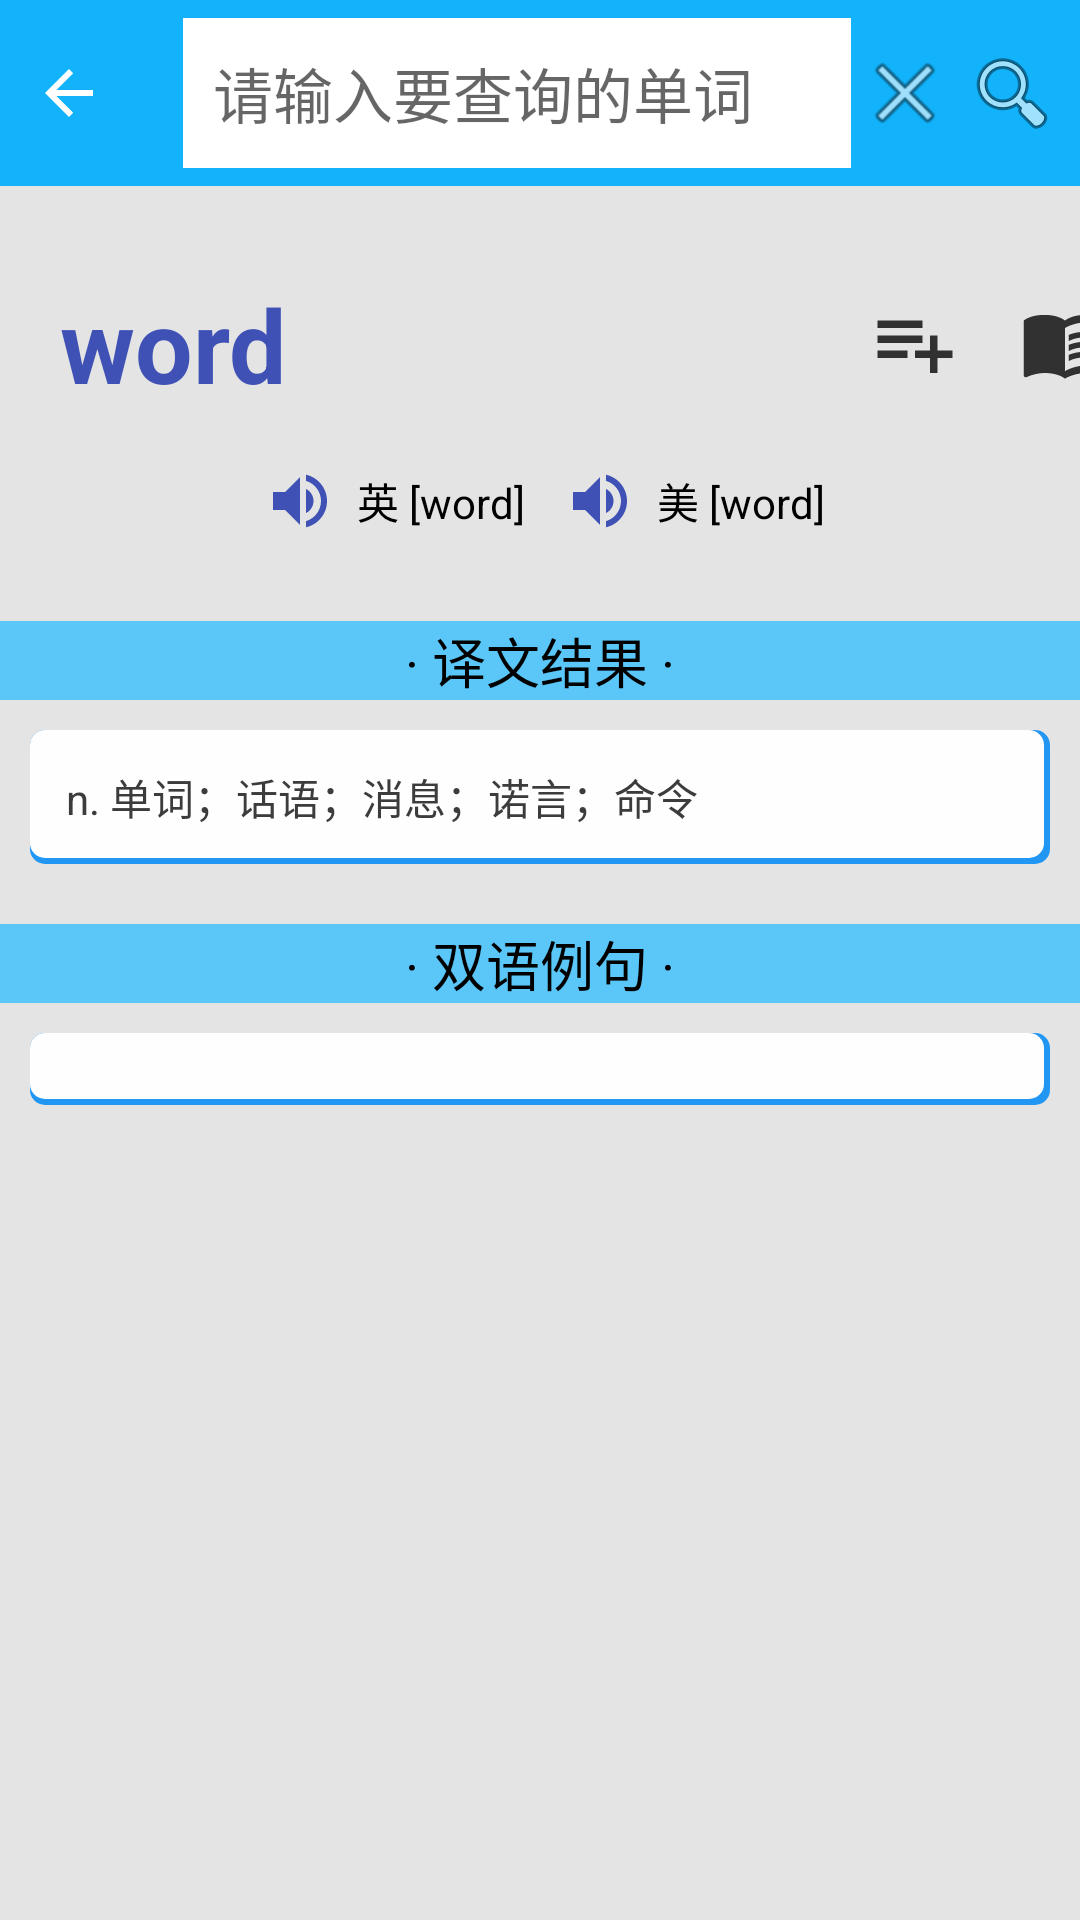

Named icons in this screenshot (1080 × 1920) and their bounding boxes, {"x1": x1, "y1": y1, "x2": x2, "y2": y2}:
close clear cancel: {"x1": 875, "y1": 63, "x2": 935, "y2": 123}
playlist add: {"x1": 877, "y1": 320, "x2": 953, "y2": 373}
search: {"x1": 976, "y1": 58, "x2": 1048, "y2": 129}
volume up: {"x1": 273, "y1": 474, "x2": 327, "y2": 528}, {"x1": 573, "y1": 474, "x2": 627, "y2": 528}
